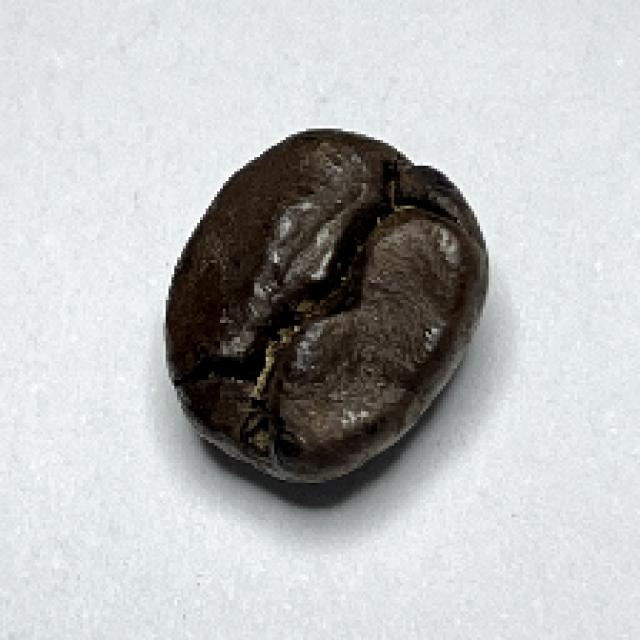bean: (158, 124, 492, 488)
